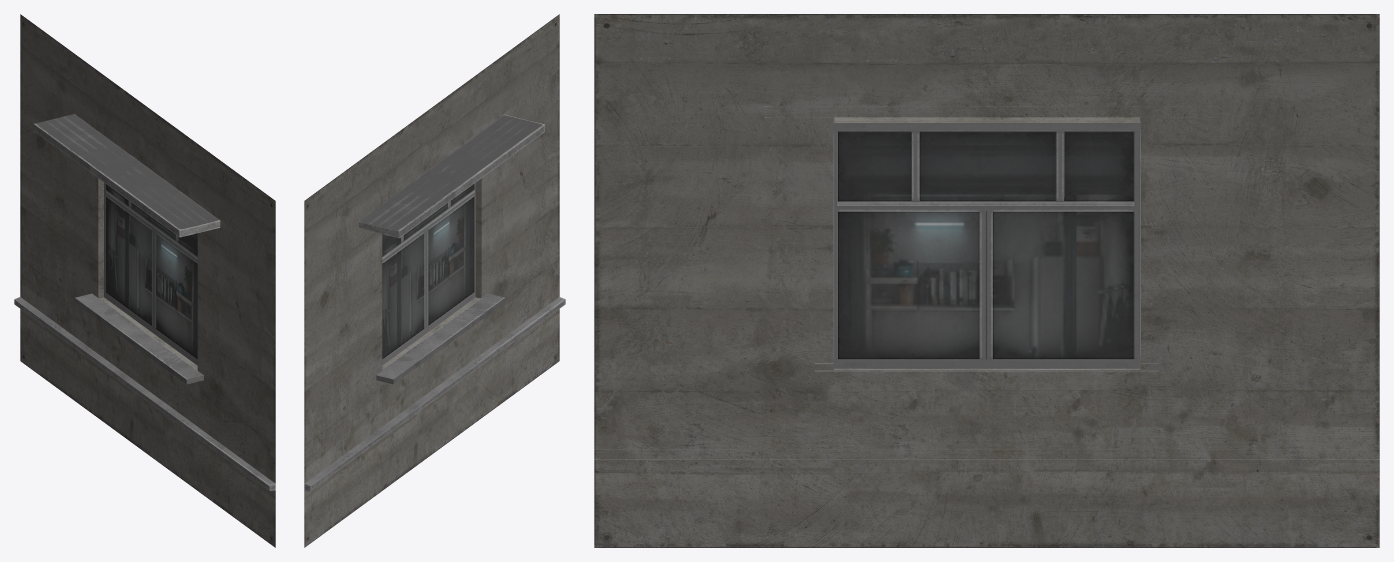
Rendered from CP_Windows_A_4x3m_03.fbx.
The picture shows the model from 3 angles, left to right: view 1: azimuth 30°, elevation 25°; view 2: azimuth 150°, elevation 25°; view 3: azimuth 270°, elevation 25°; orthographic projection. The views are drawn at different scales.
Visible parts, largest first — view 1: CP_Windows_A_4x3m_03; view 2: CP_Windows_A_4x3m_03; view 3: CP_Windows_A_4x3m_03.
Boxes of the visible parts, x1,y1,x2,y2 form: CP_Windows_A_4x3m_03: (14,14,275,547); CP_Windows_A_4x3m_03: (304,14,565,547); CP_Windows_A_4x3m_03: (594,14,1379,547).
Bounding box in the file's own units: 43.51 × 300 × 400.
